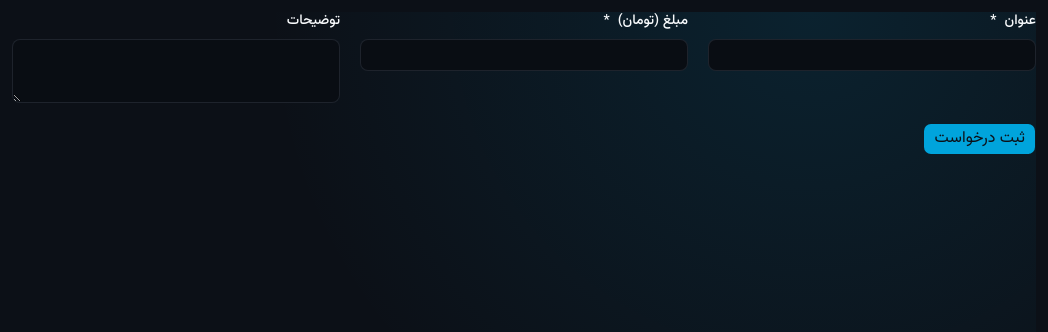
Test case: DynamicRequestForm › renders schema fields and validates required values
Step 1. Click the button "ثبت درخواست" → coordinates (980, 139), box x1=924 y1=123 x2=1036 y2=155
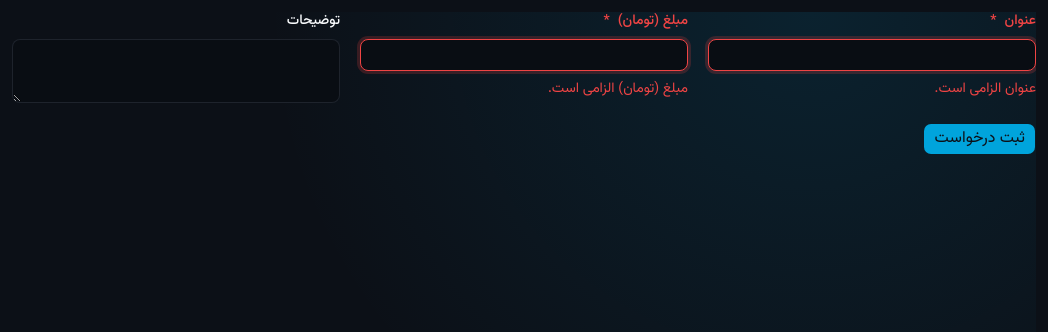
expect the text "عنوان الزامی است." is shown: met, box x1=935 y1=78 x2=1036 y2=100
